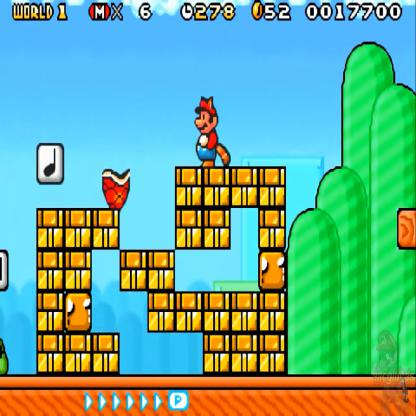Mario: (191, 98, 233, 164)
caparazon: (98, 165, 136, 212)
moneda: (251, 0, 266, 22)
